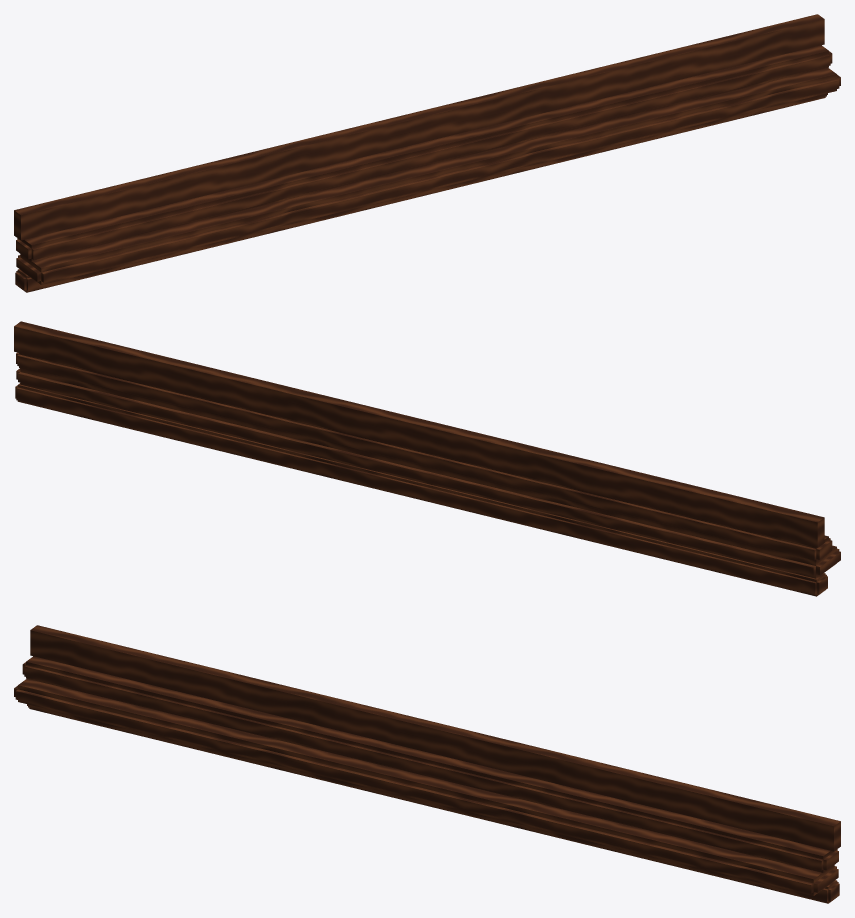
File: Moldura_Techo_2m.fbx
3 renders of one model, top to bottom at view 1: azimuth 30°, elevation 25°; view 2: azimuth 150°, elevation 25°; view 3: azimuth 330°, elevation 25°, orthographic.
Parts seen in each view (by area): view 1: Moldura_Techo_2m; view 2: Moldura_Techo_2m; view 3: Moldura_Techo_2m.
Part boxes in pixels (box(x1,y1,x2,y2)): Moldura_Techo_2m: box(14, 14, 840, 292); Moldura_Techo_2m: box(14, 321, 840, 596); Moldura_Techo_2m: box(14, 625, 840, 903).
Bounding box in the file's own units: 2 × 0.18 × 0.11.
Materials: 1 (1 with a texture image).
